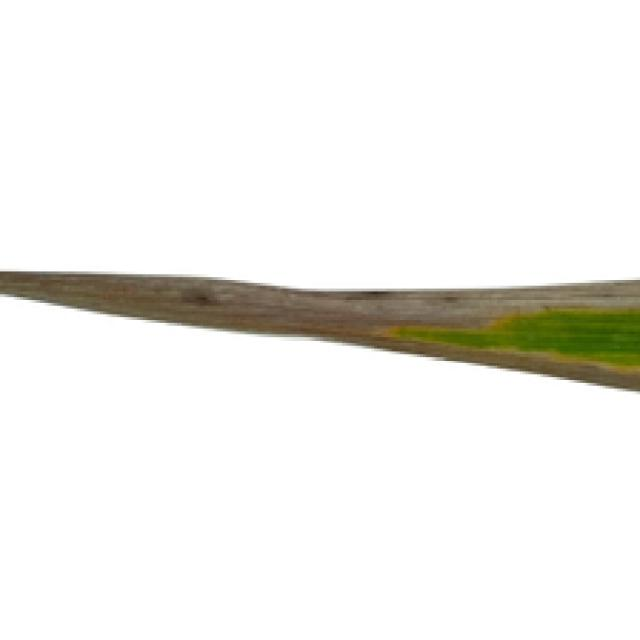Rice___Bacterial_Leaf_Blight: (0, 270, 637, 395)
